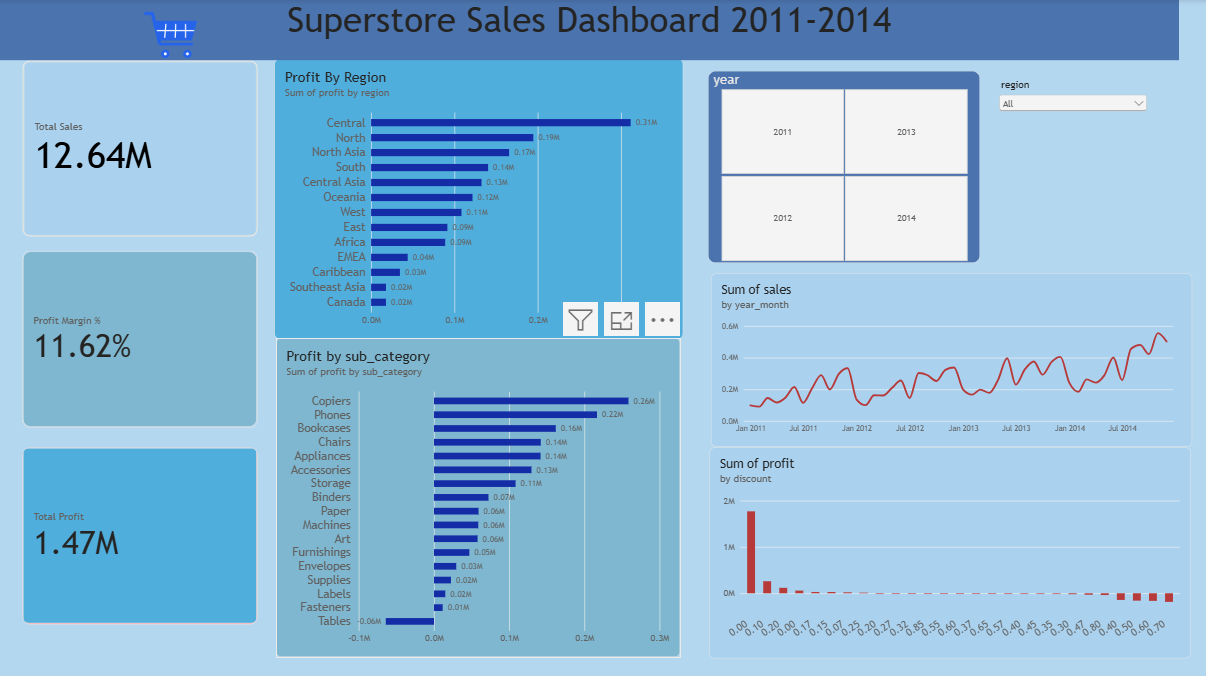

Layout of this report page (visuals, bound fields, positions):
{"tool":"powerbi","page":{"name":"Page 1","canvas":[1920,1080],"ordinal":0},"visuals":[{"type":"cardVisual","fields":{"Data":["Sum(SuperStoreOrders1.sales)"]},"box":[35,97.5,374,280],"z":0},{"type":"cardVisual","fields":{"Data":["Sum(SuperStoreOrders1.profit)"]},"box":[35,712.5,374,281],"z":1000},{"type":"cardVisual","fields":{"Data":["SuperStoreOrders1.Profit Margin %"]},"box":[35,400,374,281],"z":2000},{"type":"clusteredBarChart","title":"Profit By Region","fields":{"Category":["SuperStoreOrders1.region"],"Y":["Sum(SuperStoreOrders1.profit)"]},"box":[437.5,95,650,445],"z":3000},{"type":"clusteredBarChart","title":"Profit by sub_category","fields":{"Category":["SuperStoreOrders1.sub_category"],"Y":["Sum(SuperStoreOrders1.profit)"]},"box":[440,540,642.5,507.5],"z":4000},{"type":"slicer","fields":{"Values":["SuperStoreOrders1.year"]},"box":[1125,115,432.5,305],"z":5000},{"type":"slicer","fields":{"Values":["SuperStoreOrders1.region"]},"box":[1585,127.5,245,217.5],"z":6000},{"type":"textbox","box":[1162.5,852.5,180,162.5],"z":7000},{"type":"textbox","box":[0,0,1875,97.5],"z":8000},{"type":"image","box":[222.5,0,100,115],"z":9000},{"type":"lineChart","fields":{"Category":["SuperStoreOrders1.year_month"],"Y":["Sum(SuperStoreOrders1.sales)"]},"box":[1130,437.5,765,275],"z":10000},{"type":"clusteredColumnChart","fields":{"Category":["SuperStoreOrders1.discount"],"Y":["Sum(SuperStoreOrders1.profit)"]},"box":[1127.5,712.5,765,335],"z":11000}]}

Visuals, with their boxes in screenshot pixels (x1, y1, x2, y2), scaled from the page's 1920x1080 canvas onto the 1206x676 screenshot:
cardVisual - Sum(SuperStoreOrders1.sales): 22/61/257/236
cardVisual - Sum(SuperStoreOrders1.profit): 22/446/257/622
cardVisual - SuperStoreOrders1.Profit Margin %: 22/250/257/426
"Profit By Region" clusteredBarChart: 275/59/683/338
"Profit by sub_category" clusteredBarChart: 276/338/680/656
slicer - SuperStoreOrders1.year: 707/72/978/263
slicer - SuperStoreOrders1.region: 996/80/1149/216
textbox: 730/534/843/635
textbox: 0/0/1178/61
image: 140/0/203/72
lineChart - SuperStoreOrders1.year_month x Sum(SuperStoreOrders1.sales): 710/274/1190/446
clusteredColumnChart - SuperStoreOrders1.discount x Sum(SuperStoreOrders1.profit): 708/446/1189/656
